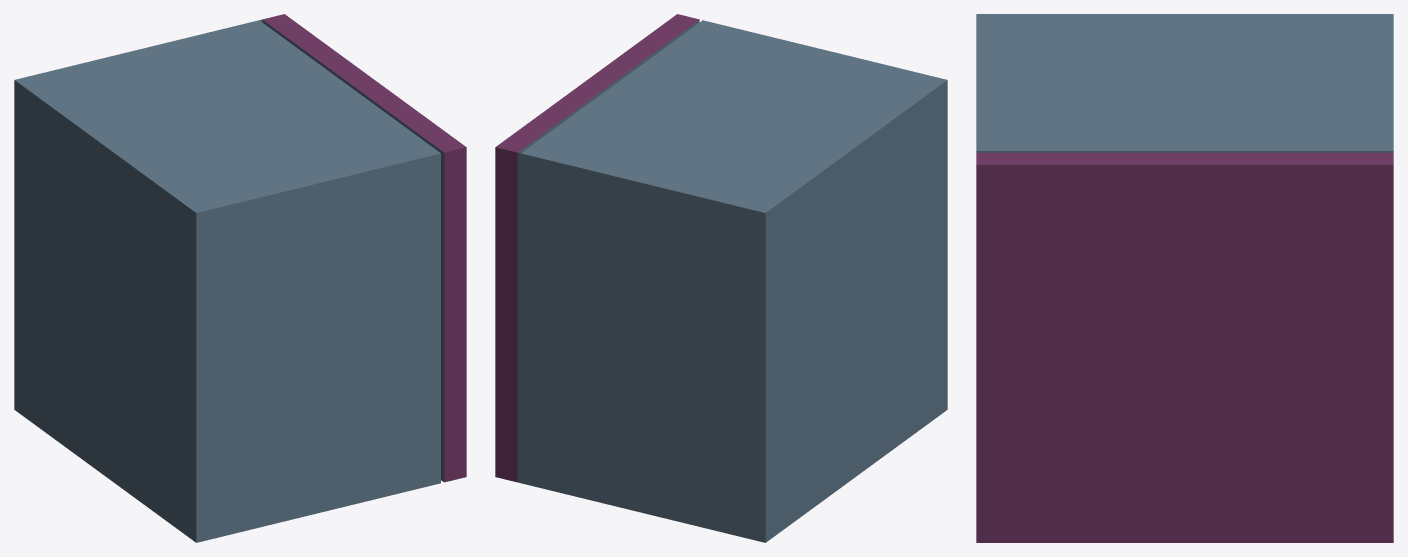
The model's file is fridge_small.glb.
The picture shows the model from 3 angles, left to right: view 1: azimuth 30°, elevation 25°; view 2: azimuth 150°, elevation 25°; view 3: azimuth 270°, elevation 25°; orthographic projection. The views are drawn at different scales.
Parts seen in each view (by area): view 1: fridge small; view 2: fridge small; view 3: fridge small.
Part boxes in pixels (left/top/right/bottom): fridge small: left=14, top=14, right=466, bottom=542; fridge small: left=495, top=14, right=947, bottom=542; fridge small: left=976, top=14, right=1393, bottom=542.
Size of the model in its own units: 1.2 by 1.4 by 1.4.
Materials: 2 (2 with a texture image).
